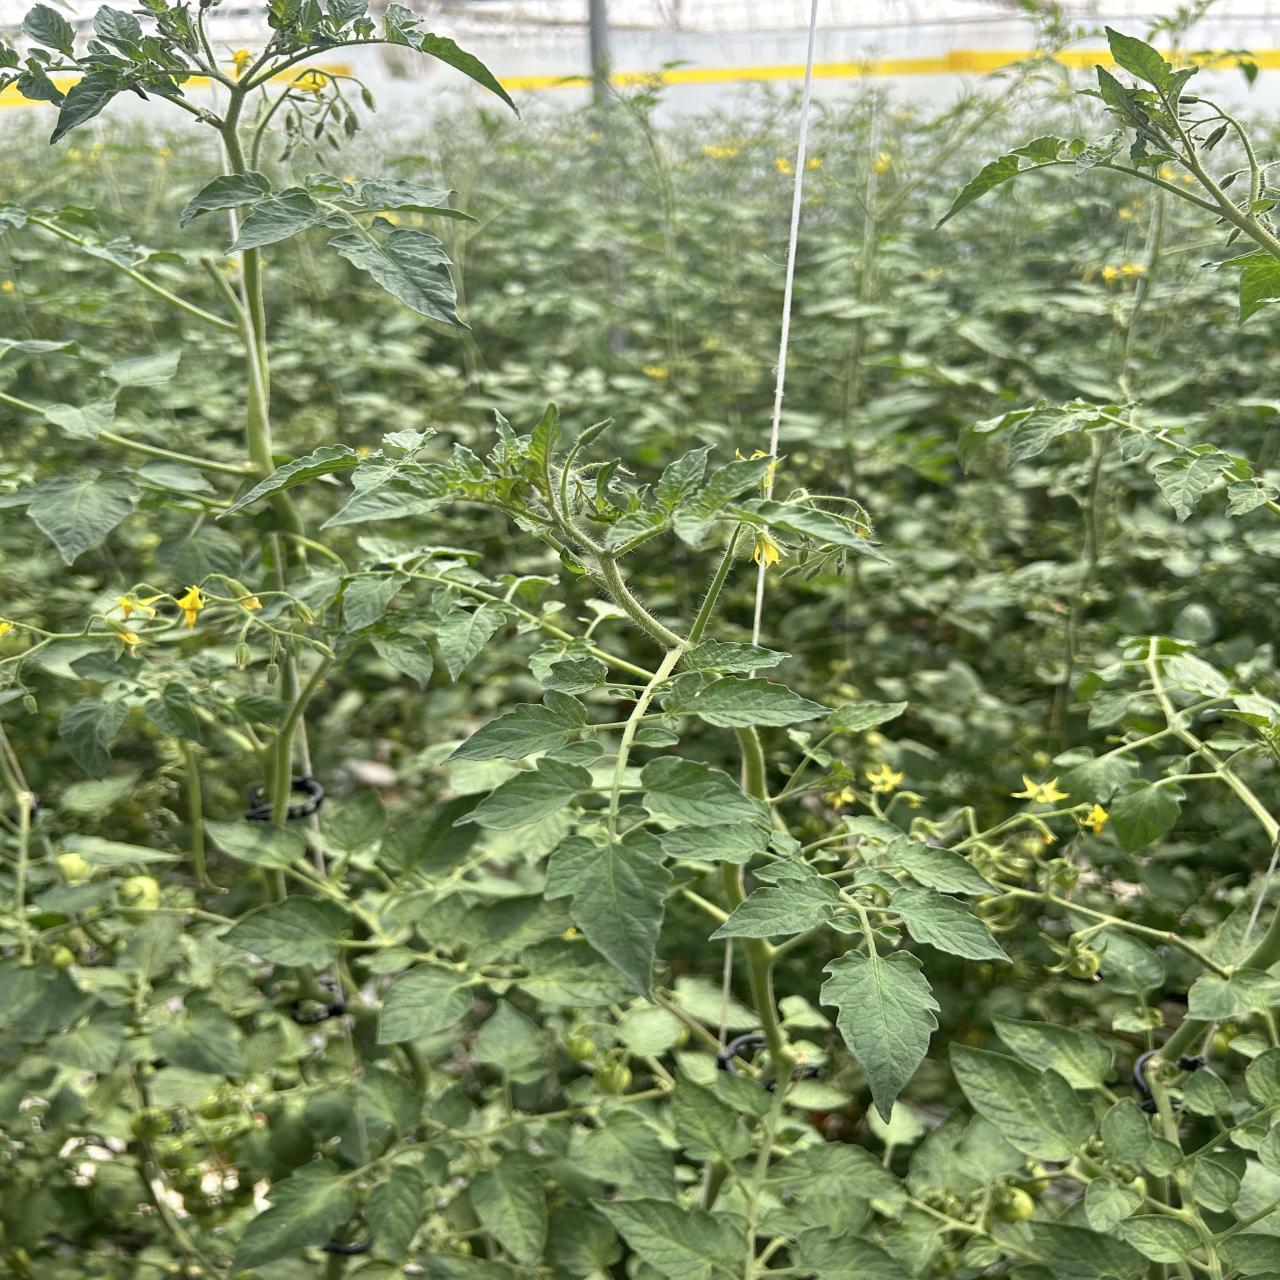Flor: (103, 593, 163, 626), (176, 586, 205, 628), (127, 633, 138, 646)
Hoja: (544, 830, 674, 998), (823, 951, 938, 1121), (951, 1044, 1096, 1160), (640, 756, 772, 865), (0, 471, 141, 565), (236, 1160, 355, 1269), (594, 1199, 747, 1280), (329, 229, 457, 324), (655, 672, 830, 728), (219, 896, 352, 967), (992, 1014, 1114, 1089), (225, 445, 359, 513), (467, 758, 591, 830), (890, 887, 1009, 959), (712, 873, 839, 939), (469, 1164, 549, 1266), (322, 465, 449, 527), (379, 966, 472, 1044), (451, 706, 580, 761), (885, 837, 996, 894), (230, 188, 331, 250), (436, 602, 516, 678), (59, 695, 128, 778), (181, 172, 271, 227), (679, 639, 791, 678), (342, 573, 408, 632), (353, 181, 450, 211)
Pedunculo: (610, 638, 694, 818), (519, 611, 653, 680), (600, 559, 689, 651), (240, 250, 274, 475), (736, 938, 787, 1076), (688, 525, 741, 644), (264, 678, 304, 825), (736, 726, 768, 799), (722, 863, 747, 908), (268, 531, 284, 590), (581, 551, 598, 559)
